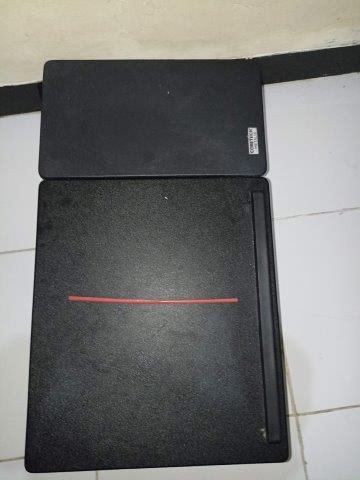sedotan: (69, 295, 239, 305)
